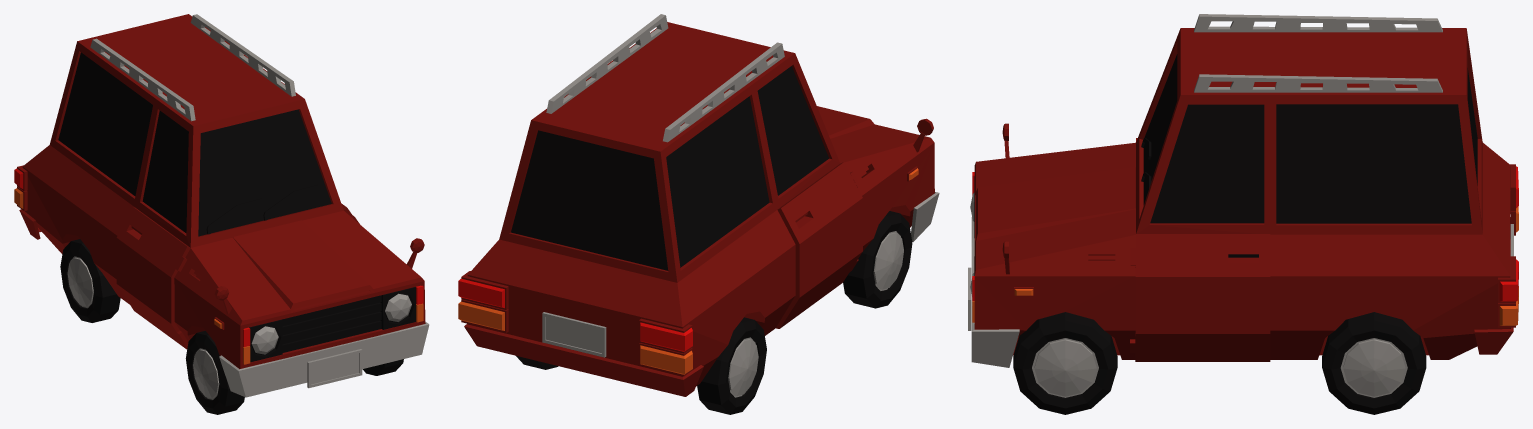
Rendered from car1.glb.
The picture shows the model from 3 angles, left to right: view 1: azimuth 30°, elevation 25°; view 2: azimuth 150°, elevation 25°; view 3: azimuth 270°, elevation 25°; orthographic projection. The views are drawn at different scales.
Visible parts, largest first — view 1: mesh_id29, mesh_id31, mesh_id30, mesh_id32, mesh_id33; view 2: mesh_id29, mesh_id31, mesh_id30, mesh_id32, mesh_id33; view 3: mesh_id29, mesh_id31, mesh_id30, mesh_id33, mesh_id32.
Boxes of the visible parts, x1,y1,x2,y2 form: mesh_id29: (17,14,425,369); mesh_id31: (58,52,415,414); mesh_id30: (67,14,429,399); mesh_id32: (14,188,423,364); mesh_id33: (14,168,423,346); mesh_id29: (461,22,934,396); mesh_id31: (511,66,912,414); mesh_id30: (542,14,939,397); mesh_id32: (458,168,918,374); mesh_id33: (458,278,692,351); mesh_id29: (974,28,1515,361); mesh_id31: (974,54,1477,414); mesh_id30: (968,14,1513,397); mesh_id33: (972,166,1518,301); mesh_id32: (972,206,1518,325).
Bounding box in the file's own units: 0.298 × 0.3504 × 0.5534.
Materials: 5 (5 with a texture image).
